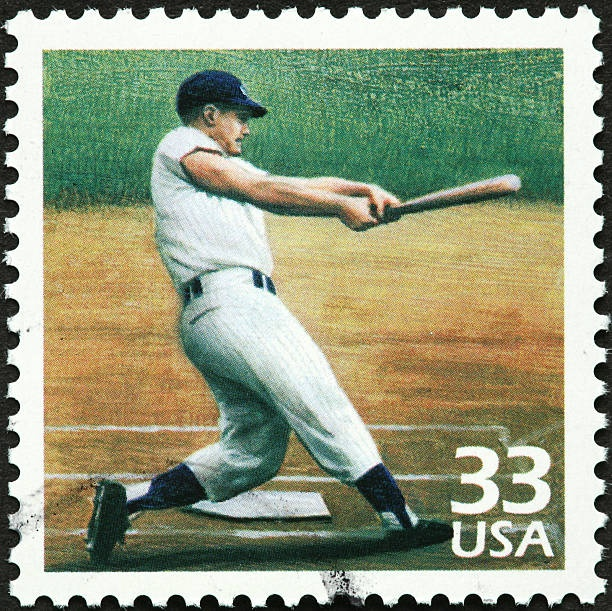bita: (378, 172, 522, 220)
